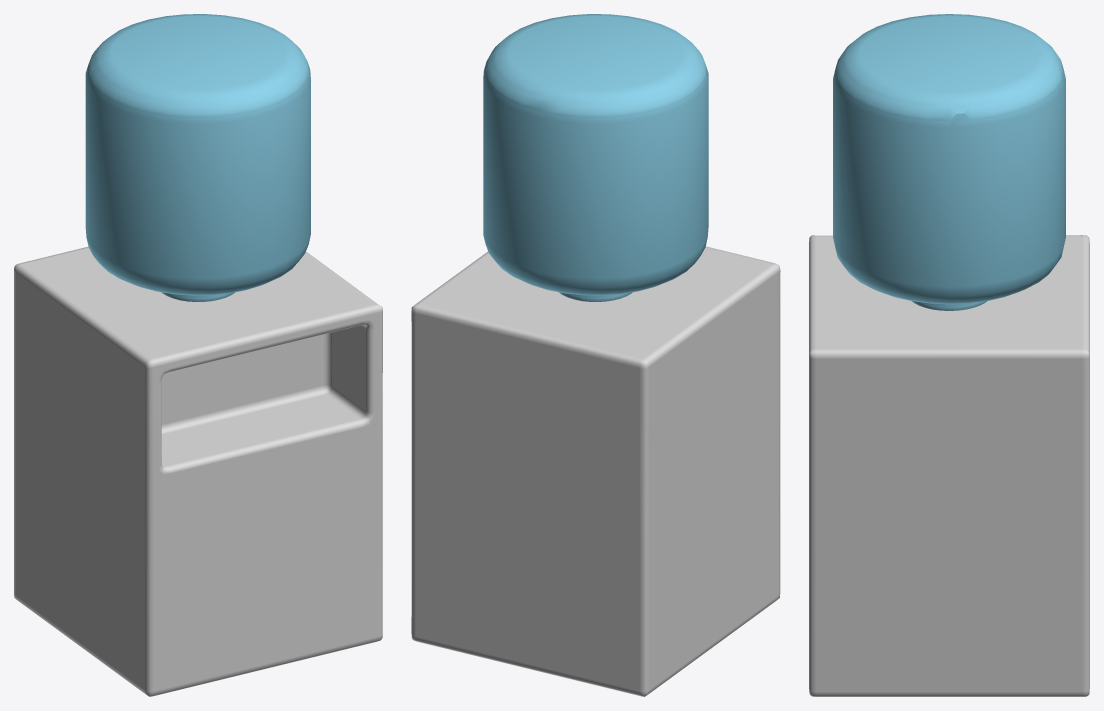
The model's file is WaterCooler.fbx.
The picture shows the model from 3 angles, left to right: view 1: azimuth 30°, elevation 25°; view 2: azimuth 150°, elevation 25°; view 3: azimuth 270°, elevation 25°; orthographic projection. The views are drawn at different scales.
Parts seen in each view (by area): view 1: WaterJug; view 2: WaterJug; view 3: WaterJug.
Part boxes in pixels (x1=…): WaterJug: x1=14, y1=14, x2=382, y2=696; WaterJug: x1=411, y1=14, x2=780, y2=696; WaterJug: x1=809, y1=14, x2=1089, y2=696.
Bounding box in the file's own units: 300 × 690 × 300.
